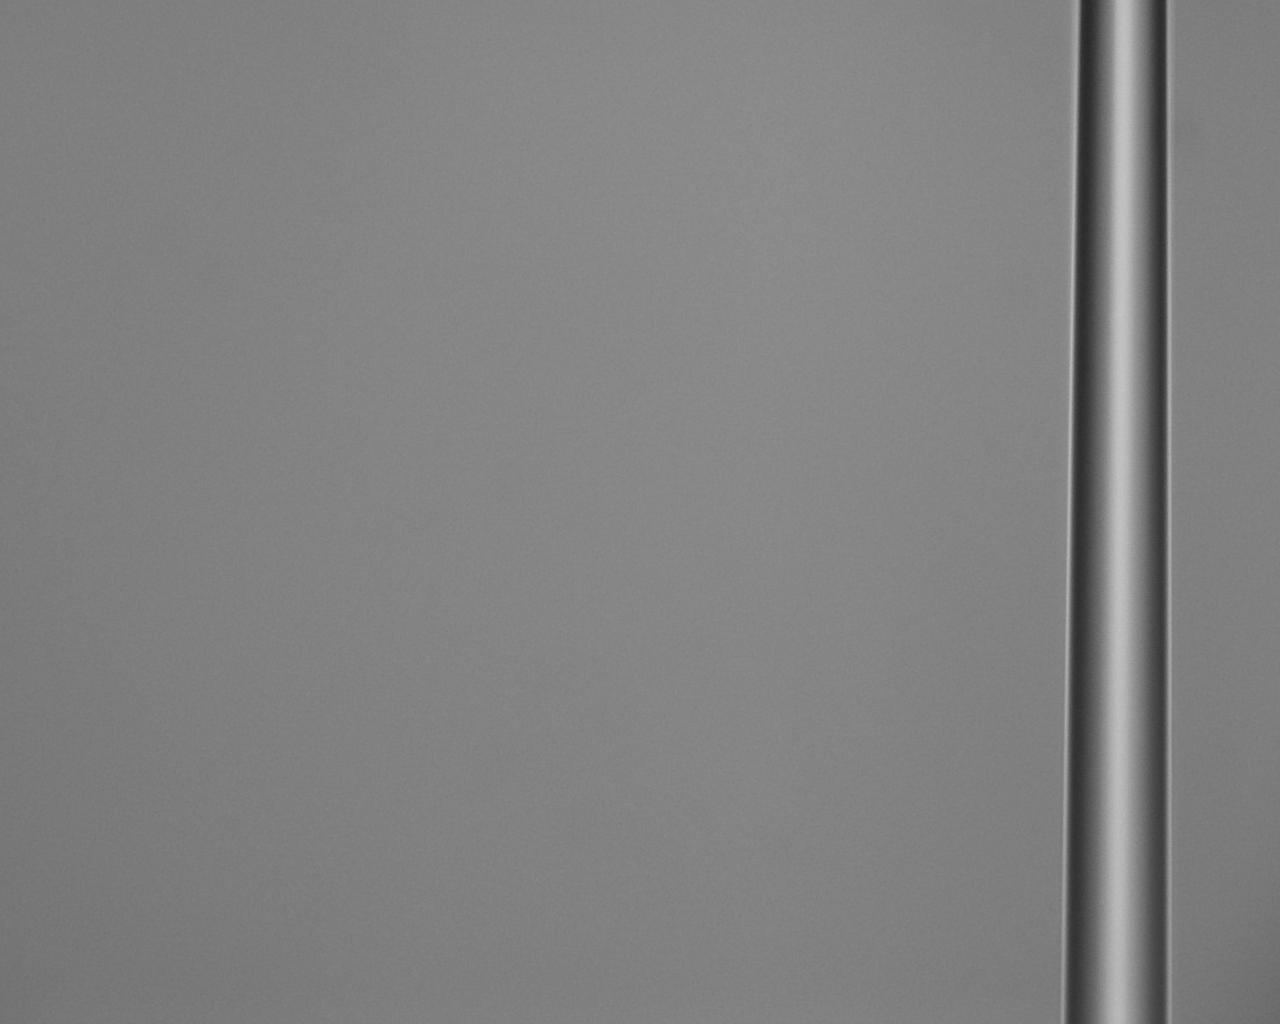fiber: (639, 0, 1131, 358), (639, 358, 809, 1024), (59, 0, 287, 358)
